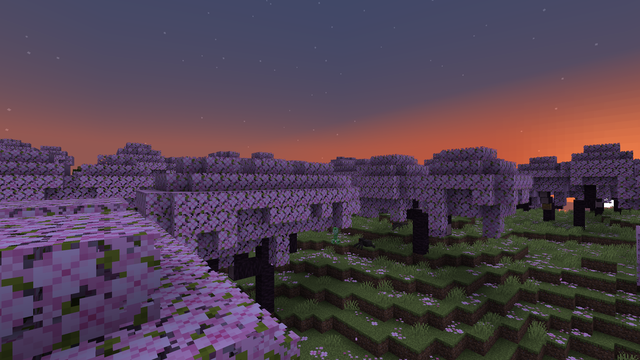araignees: (354, 236, 374, 250), (390, 221, 407, 231)
creepers: (331, 227, 339, 244)
